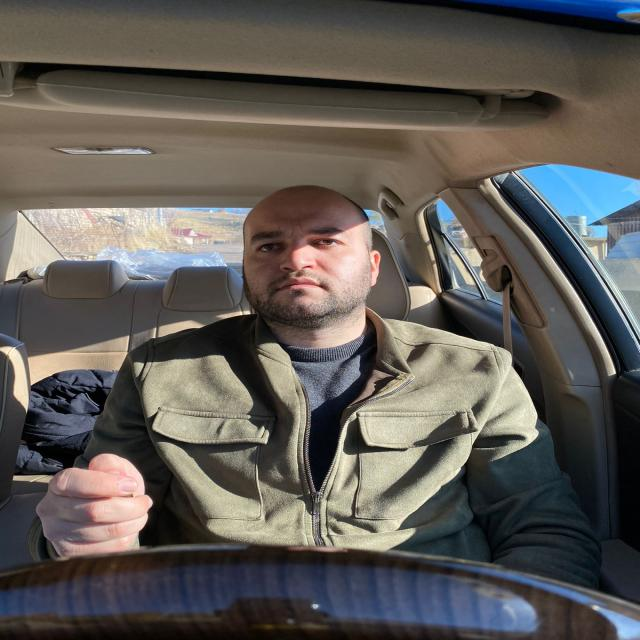person: (228, 180, 395, 342)
